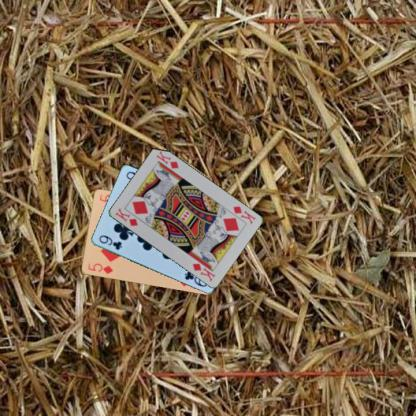5d: (85, 261, 114, 275)
9c: (96, 233, 123, 252)
Kd: (112, 205, 139, 228), (230, 204, 256, 226)
